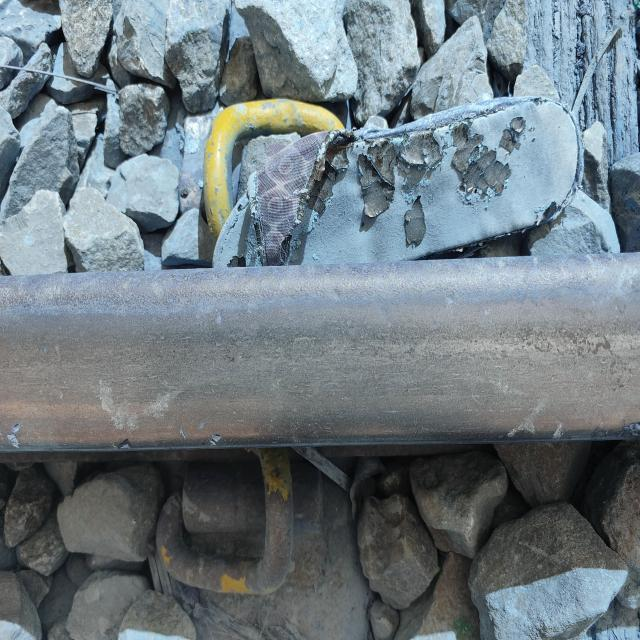Good Fasteners: (145, 440, 338, 606), (185, 83, 357, 254)
